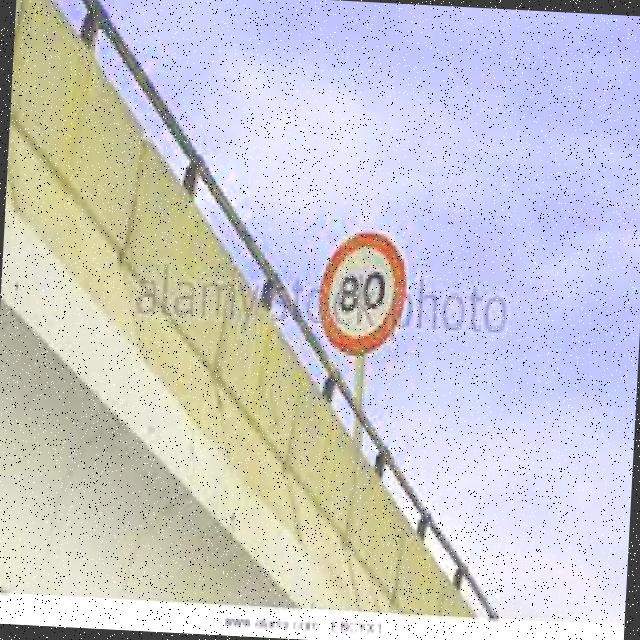Ograniczenie predkosci do 80: (317, 228, 414, 359)
